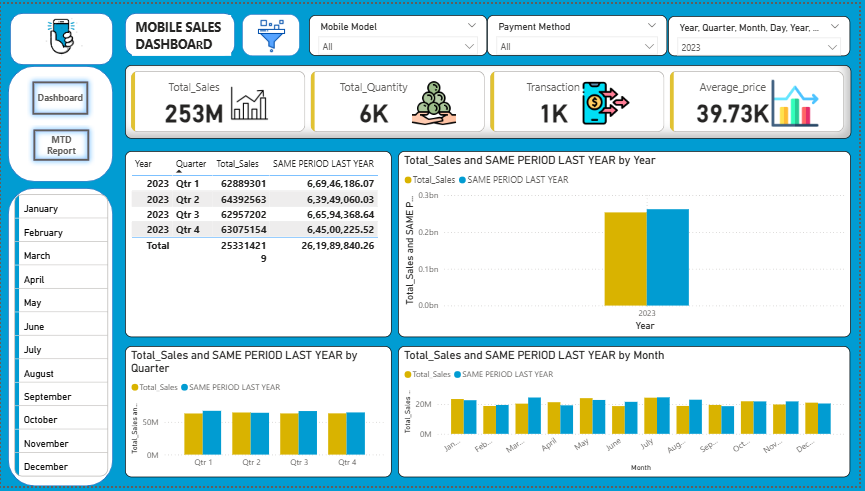

The dashboard page shown, as its layout file describes it:
{"tool":"powerbi","page":{"name":"SAME PERIOD LAST YEAR","canvas":[1280,720],"ordinal":2},"visuals":[{"type":"shape","box":[13.2,13.2,153.7,77.6],"z":0},{"type":"image","box":[20.5,8.8,137.6,83.4],"z":1000},{"type":"shape","box":[10.2,92.2,156.6,172.7],"z":2000},{"type":"cardVisual","fields":{"Data":["Sheet1.Total_Sales","Sheet1.Total_Quantity","Sheet1.Transaction","Sheet1.Average_price"]},"box":[184.4,90.7,1084.4,109.8],"z":3000},{"type":"slicer","fields":{"Values":["Sheet1.Mobile Model"]},"box":[459.5,16.1,266.3,61.5],"z":4000},{"type":"slicer","fields":{"Values":["Sheet1.Payment Method"]},"box":[725.9,16.1,269.3,61.5],"z":5000},{"type":"slicer","fields":{"Values":["custom data.Dates.Variation.Date Hierarchy.Year","custom data.Dates.Variation.Date Hierarchy.Quarter","custom data.Dates.Variation.Date Hierarchy.Month","custom data.Dates.Variation.Date Hierarchy.Day","custom data.Dates.Variation.Date Hierarchy.Year","custom data.Dates.Variation.Date Hierarchy.Quarter","custom data.Dates.Variation.Date Hierarchy.Month","custom data.Dates.Variation.Date Hierarchy.Day"]},"box":[995.1,17.6,272.2,60],"z":6000},{"type":"shape","box":[184.4,13.2,163.9,64.4],"z":7000},{"type":"textbox","box":[196.1,16.1,147.8,61.5],"z":8000},{"type":"shape","box":[360,14.6,86.3,62.9],"z":9000},{"type":"image","box":[348.3,17.6,111.2,60],"z":10000},{"type":"shape","box":[10.2,275.1,156.6,444.9],"z":11000},{"type":"tableEx","fields":{"Values":["custom data.Dates.Variation.Date Hierarchy.Year","custom data.Dates.Variation.Date Hierarchy.Quarter","Sheet1.Total_Sales","Sheet1.SAME PERIOD LAST YEAR"]},"box":[184.4,219.5,398,278],"z":12000},{"type":"clusteredColumnChart","fields":{"Category":["custom data.Dates.Variation.Date Hierarchy.Year","custom data.Dates.Variation.Date Hierarchy.Quarter"],"Y":["Sheet1.Total_Sales","Sheet1.SAME PERIOD LAST YEAR"]},"box":[592.7,219.5,676.1,278],"z":13000},{"type":"clusteredColumnChart","fields":{"Category":["custom data.Dates.Variation.Date Hierarchy.Year","custom data.Dates.Variation.Date Hierarchy.Quarter"],"Y":["Sheet1.Total_Sales","Sheet1.SAME PERIOD LAST YEAR"]},"box":[184.4,510.7,398,196.1],"z":14000},{"type":"clusteredColumnChart","fields":{"Y":["Sheet1.Total_Sales","Sheet1.SAME PERIOD LAST YEAR"],"Category":["custom data.Dates.Variation.Date Hierarchy.Year","custom data.Dates.Variation.Date Hierarchy.Quarter","custom data.Dates.Variation.Date Hierarchy.Month","custom data.Dates.Variation.Date Hierarchy.Day"]},"box":[592.7,510.7,674.6,196.1],"z":15000},{"type":"advancedSlicerVisual","fields":{"Values":["custom data.Dates.Variation.Date Hierarchy.Month"]},"box":[14.6,279.5,150.7,440.5],"z":16000},{"type":"actionButton","box":[39.5,106.8,99.5,65.9],"z":17000},{"type":"actionButton","box":[41,178.5,99.5,62.9],"z":18000}]}

Visuals, with their boxes in screenshot pixels (x1, y1, x2, y2), scaled from the page's 1280x720 canvas onto the 865x491 screenshot:
shape: bbox(9, 9, 113, 62)
image: bbox(14, 6, 107, 63)
shape: bbox(7, 63, 113, 181)
cardVisual - Sheet1.Total_Sales x Sheet1.Total_Quantity: bbox(125, 62, 857, 137)
slicer - Sheet1.Mobile Model: bbox(311, 11, 490, 53)
slicer - Sheet1.Payment Method: bbox(491, 11, 673, 53)
slicer - custom data.Dates.Variation.Date Hierarchy.Year x custom data.Dates.Variation.Date Hierarchy.Quarter: bbox(672, 12, 856, 53)
shape: bbox(125, 9, 235, 53)
textbox: bbox(133, 11, 232, 53)
shape: bbox(243, 10, 302, 53)
image: bbox(235, 12, 311, 53)
shape: bbox(7, 188, 113, 490)
tableEx - custom data.Dates.Variation.Date Hierarchy.Year x custom data.Dates.Variation.Date Hierarchy.Quarter: bbox(125, 150, 394, 339)
clusteredColumnChart - custom data.Dates.Variation.Date Hierarchy.Year x custom data.Dates.Variation.Date Hierarchy.Quarter: bbox(401, 150, 857, 339)
clusteredColumnChart - custom data.Dates.Variation.Date Hierarchy.Year x custom data.Dates.Variation.Date Hierarchy.Quarter: bbox(125, 348, 394, 482)
clusteredColumnChart - Sheet1.Total_Sales x Sheet1.SAME PERIOD LAST YEAR: bbox(401, 348, 856, 482)
advancedSlicerVisual - custom data.Dates.Variation.Date Hierarchy.Month: bbox(10, 191, 112, 490)
actionButton: bbox(27, 73, 94, 118)
actionButton: bbox(28, 122, 95, 165)
